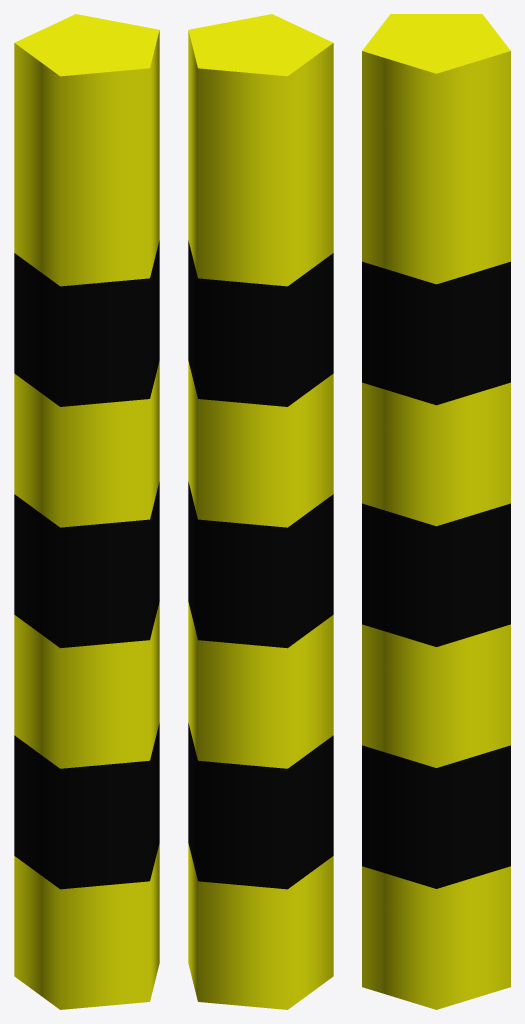
File: pilar1.FBX
3 renders of one model, left to right at view 1: azimuth 30°, elevation 25°; view 2: azimuth 150°, elevation 25°; view 3: azimuth 270°, elevation 25°, orthographic.
Parts seen in each view (by area): view 1: Cylinder001; view 2: Cylinder001; view 3: Cylinder001.
Part boxes in pixels (bbox=[...]): Cylinder001: bbox=[14, 14, 159, 1009]; Cylinder001: bbox=[188, 14, 333, 1009]; Cylinder001: bbox=[362, 14, 510, 1009].
Size of the model in its own units: 4.52 by 33 by 4.76.
